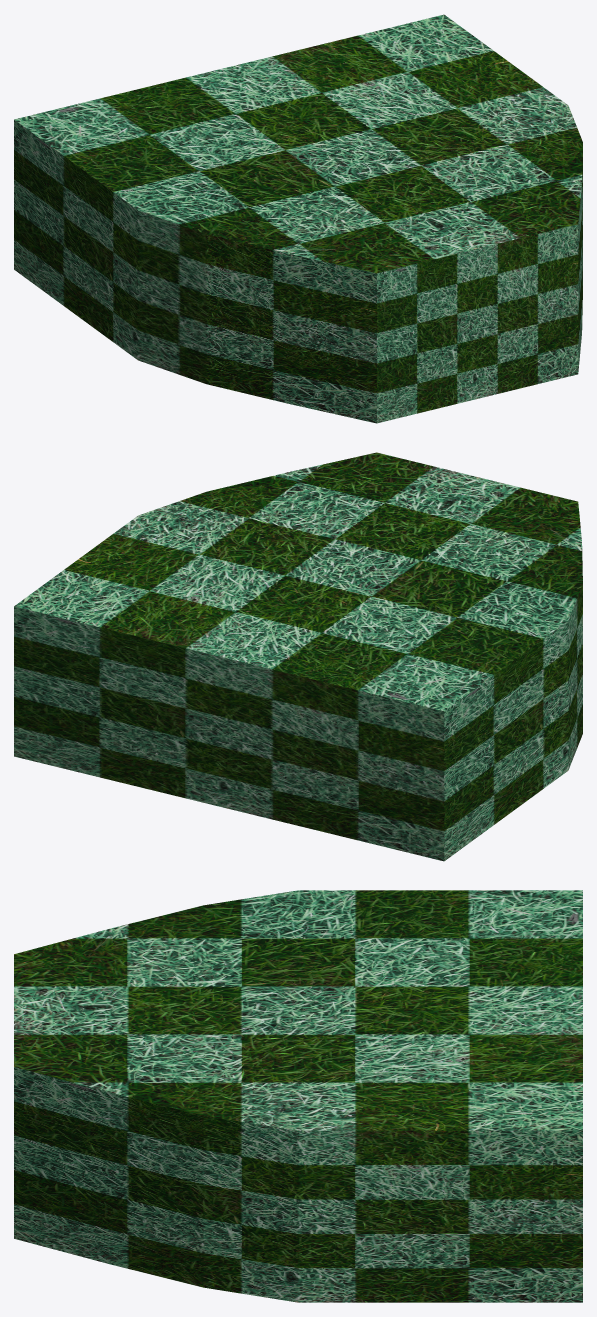
Rendered from Floor5TightForward.fbx.
The picture shows the model from 3 angles, top to bottom: view 1: azimuth 30°, elevation 25°; view 2: azimuth 150°, elevation 25°; view 3: azimuth 270°, elevation 25°; orthographic projection. The views are drawn at different scales.
Visible parts, largest first — view 1: Floor.005TightForward; view 2: Floor.005TightForward; view 3: Floor.005TightForward.
Boxes of the visible parts, box(x1,y1,x2,y2) form: Floor.005TightForward: box(14, 14, 582, 423); Floor.005TightForward: box(14, 452, 582, 861); Floor.005TightForward: box(14, 890, 582, 1302).
Bounding box in the file's own units: 150 × 50 × 150.
